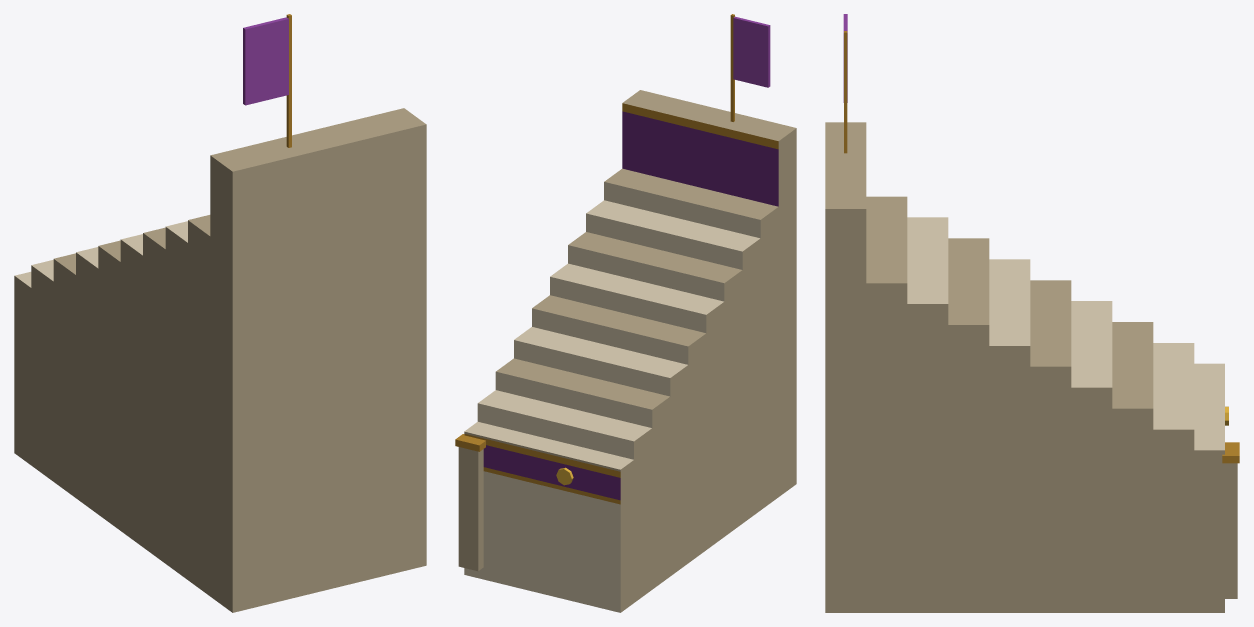
File: SM_ImpStand_4m.fbx
3 views of the same model, side by side, from view 1: azimuth 30°, elevation 25°; view 2: azimuth 150°, elevation 25°; view 3: azimuth 270°, elevation 25° (orthographic). The views are drawn at different scales.
Visible parts, largest first — view 1: SM_ImpStand_4m; view 2: SM_ImpStand_4m; view 3: SM_ImpStand_4m.
Boxes of the visible parts, left/top/right/bottom form: SM_ImpStand_4m: left=14, top=14, right=426, bottom=612; SM_ImpStand_4m: left=455, top=14, right=796, bottom=612; SM_ImpStand_4m: left=825, top=14, right=1239, bottom=612.
Bounding box in the file's own units: 4.06 × 8.09 × 11.3.
